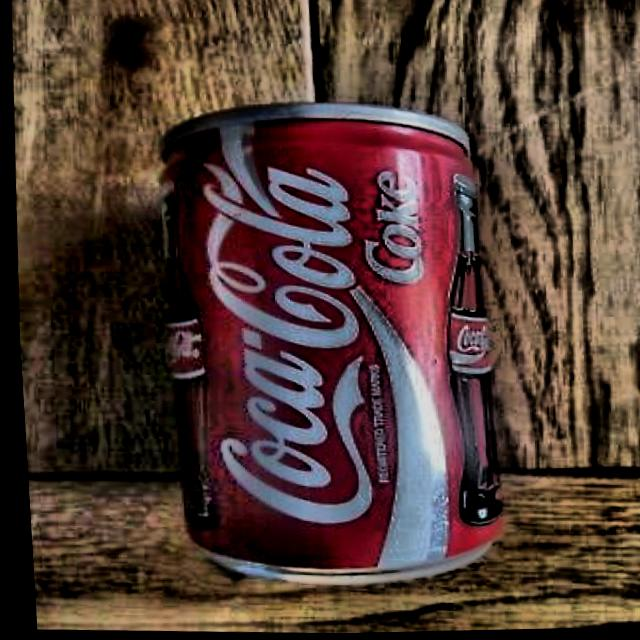Cans: (129, 87, 518, 586)
